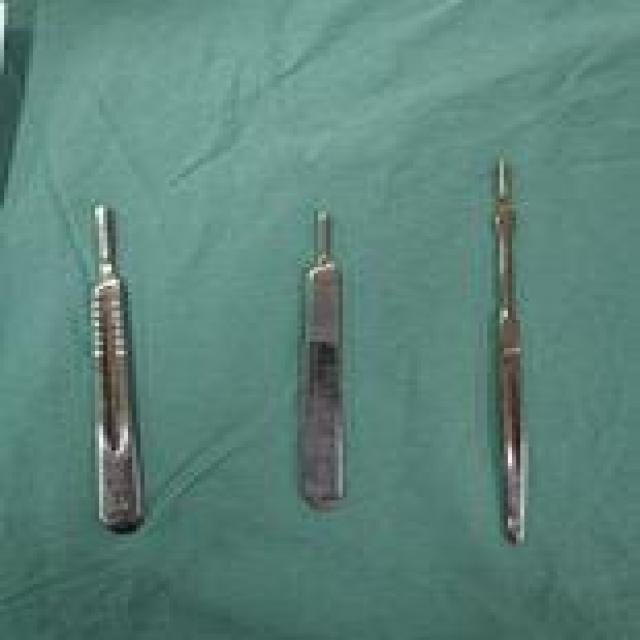Scalpel: (82, 202, 148, 537), (483, 155, 537, 553), (297, 205, 355, 513)
